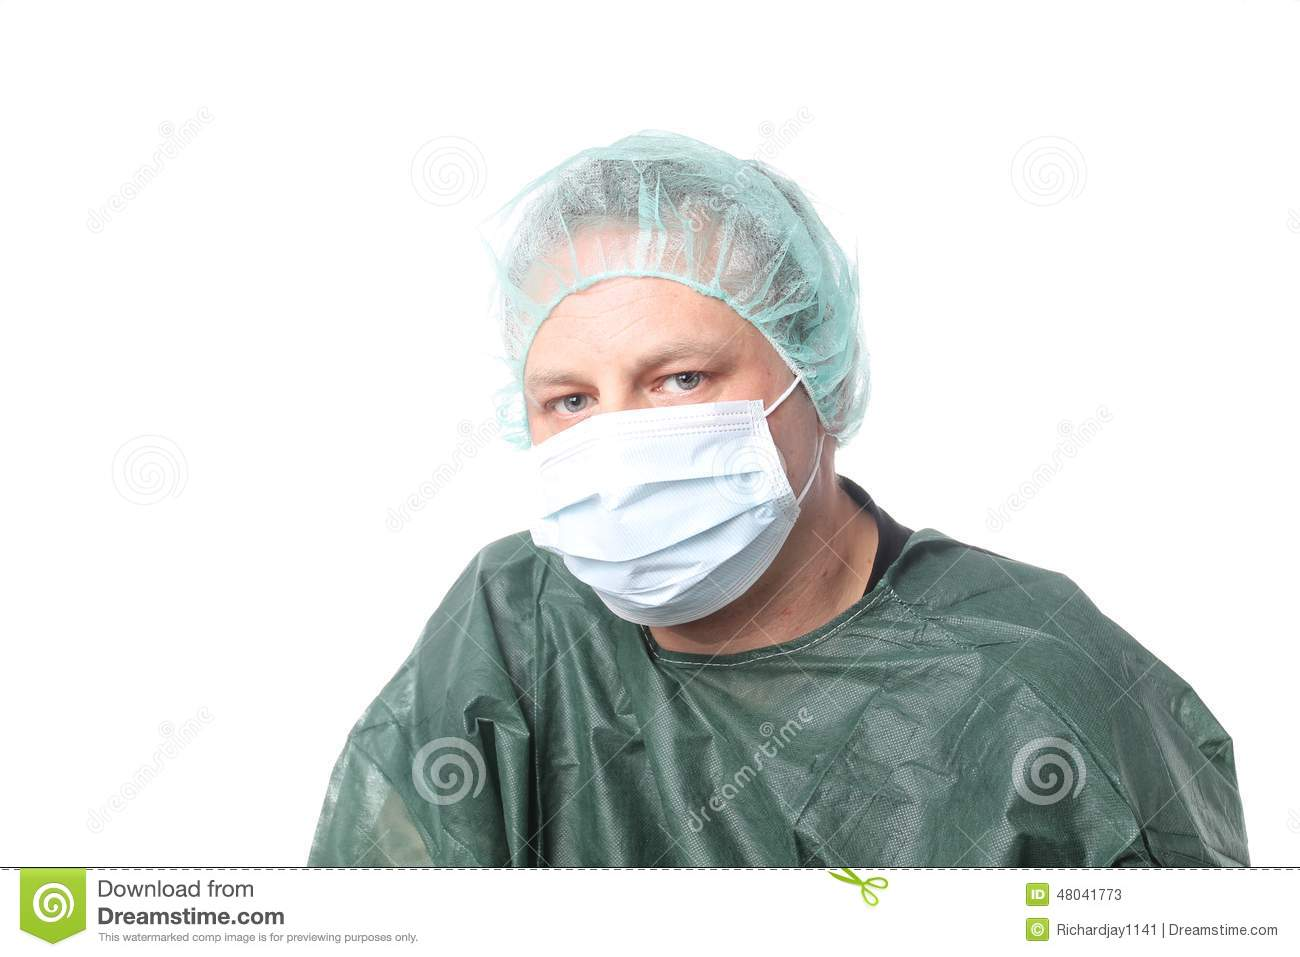mask: (519, 404, 825, 630)
